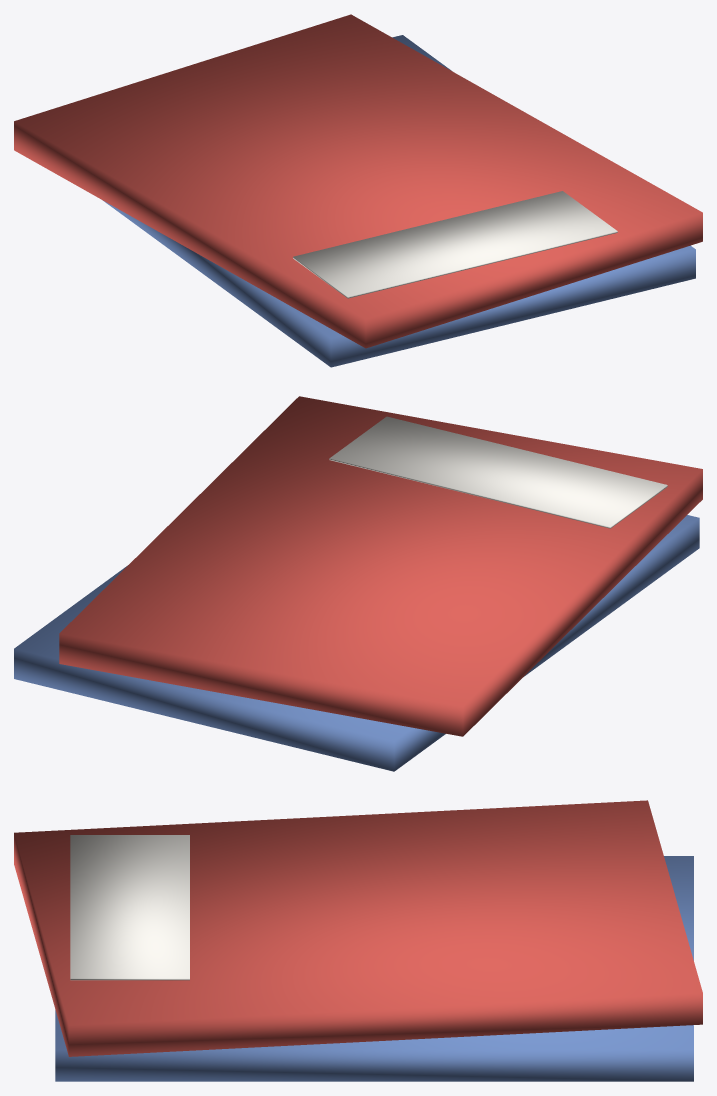
Rendered from magazines.glb.
The picture shows the model from 3 angles, top to bottom: view 1: azimuth 30°, elevation 25°; view 2: azimuth 150°, elevation 25°; view 3: azimuth 270°, elevation 25°; orthographic projection. The views are drawn at different scales.
Parts seen in each view (by area): view 1: Cube.004, Cube.005, Cube.003; view 2: Cube.004, Cube.003, Cube.005; view 3: Cube.004, Cube.003, Cube.005.
Part boxes in pixels (box(x1,y1,x2,y2)): Cube.004: box(14, 14, 702, 348); Cube.005: box(293, 191, 617, 298); Cube.003: box(103, 35, 695, 367); Cube.004: box(59, 396, 702, 736); Cube.003: box(14, 515, 699, 771); Cube.005: box(329, 416, 667, 528); Cube.004: box(14, 800, 702, 1056); Cube.003: box(55, 856, 693, 1081); Cube.005: box(70, 835, 189, 980).
Size of the model in its own units: 5.33 by 0.7199 by 6.9.
